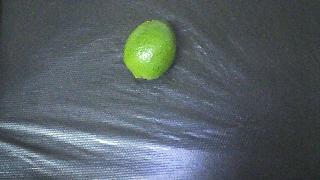LOCAL: (124, 20, 177, 80)
